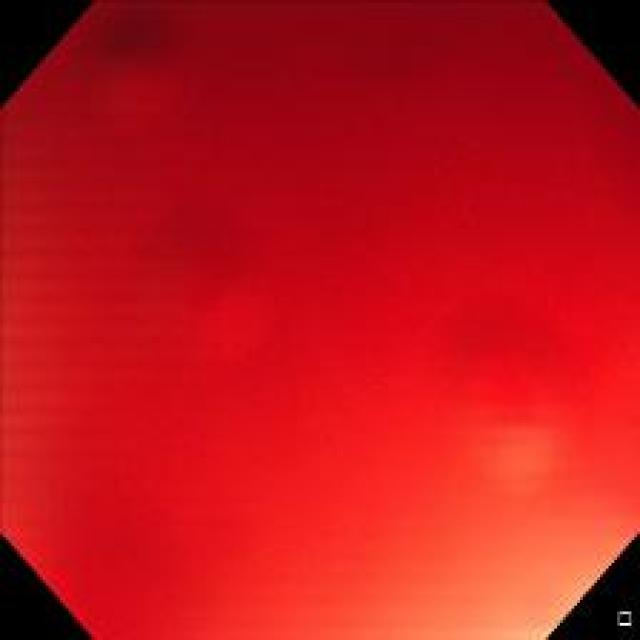color misalignment: (6, 6, 632, 632)
